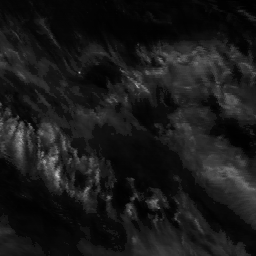Target: (76, 69, 81, 74)
